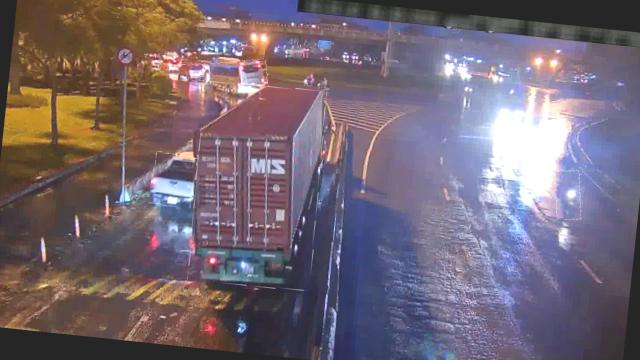Bike: (552, 170, 584, 220)
Bus: (208, 56, 269, 98)
Car: (149, 152, 197, 208), (185, 62, 210, 82)
Truck: (185, 79, 329, 292)
